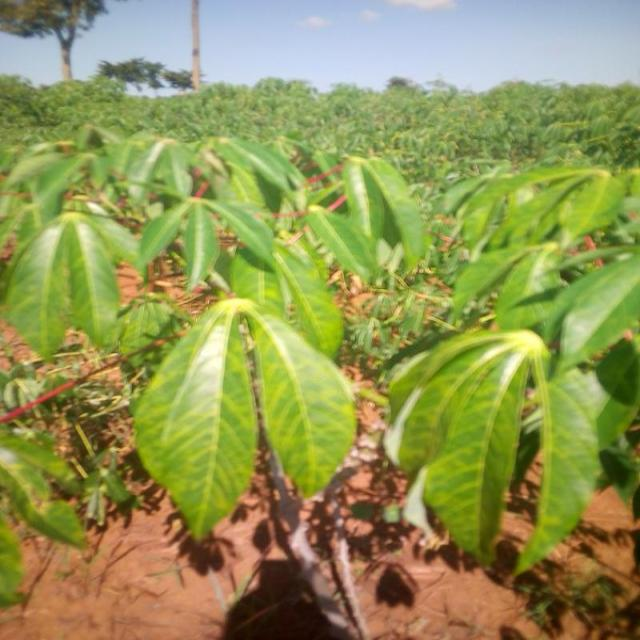cassava leaf: (132, 294, 358, 542), (383, 326, 552, 566)
